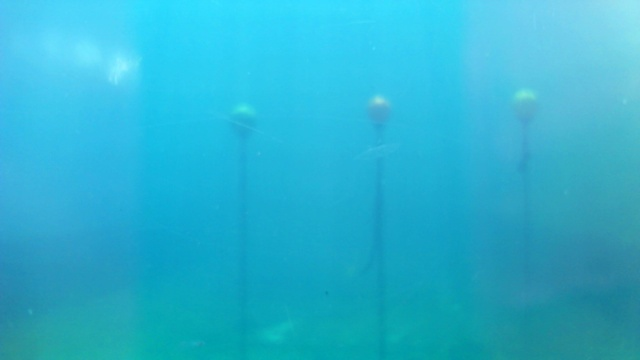buoy_green: (230, 104, 259, 141)
buoy_red: (366, 97, 388, 124)
